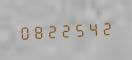eight: (31, 21, 44, 41)
five: (73, 19, 86, 38)
four: (87, 18, 100, 38)
two: (45, 21, 58, 40), (59, 20, 72, 39), (101, 18, 114, 37)
zero: (17, 22, 30, 41)
